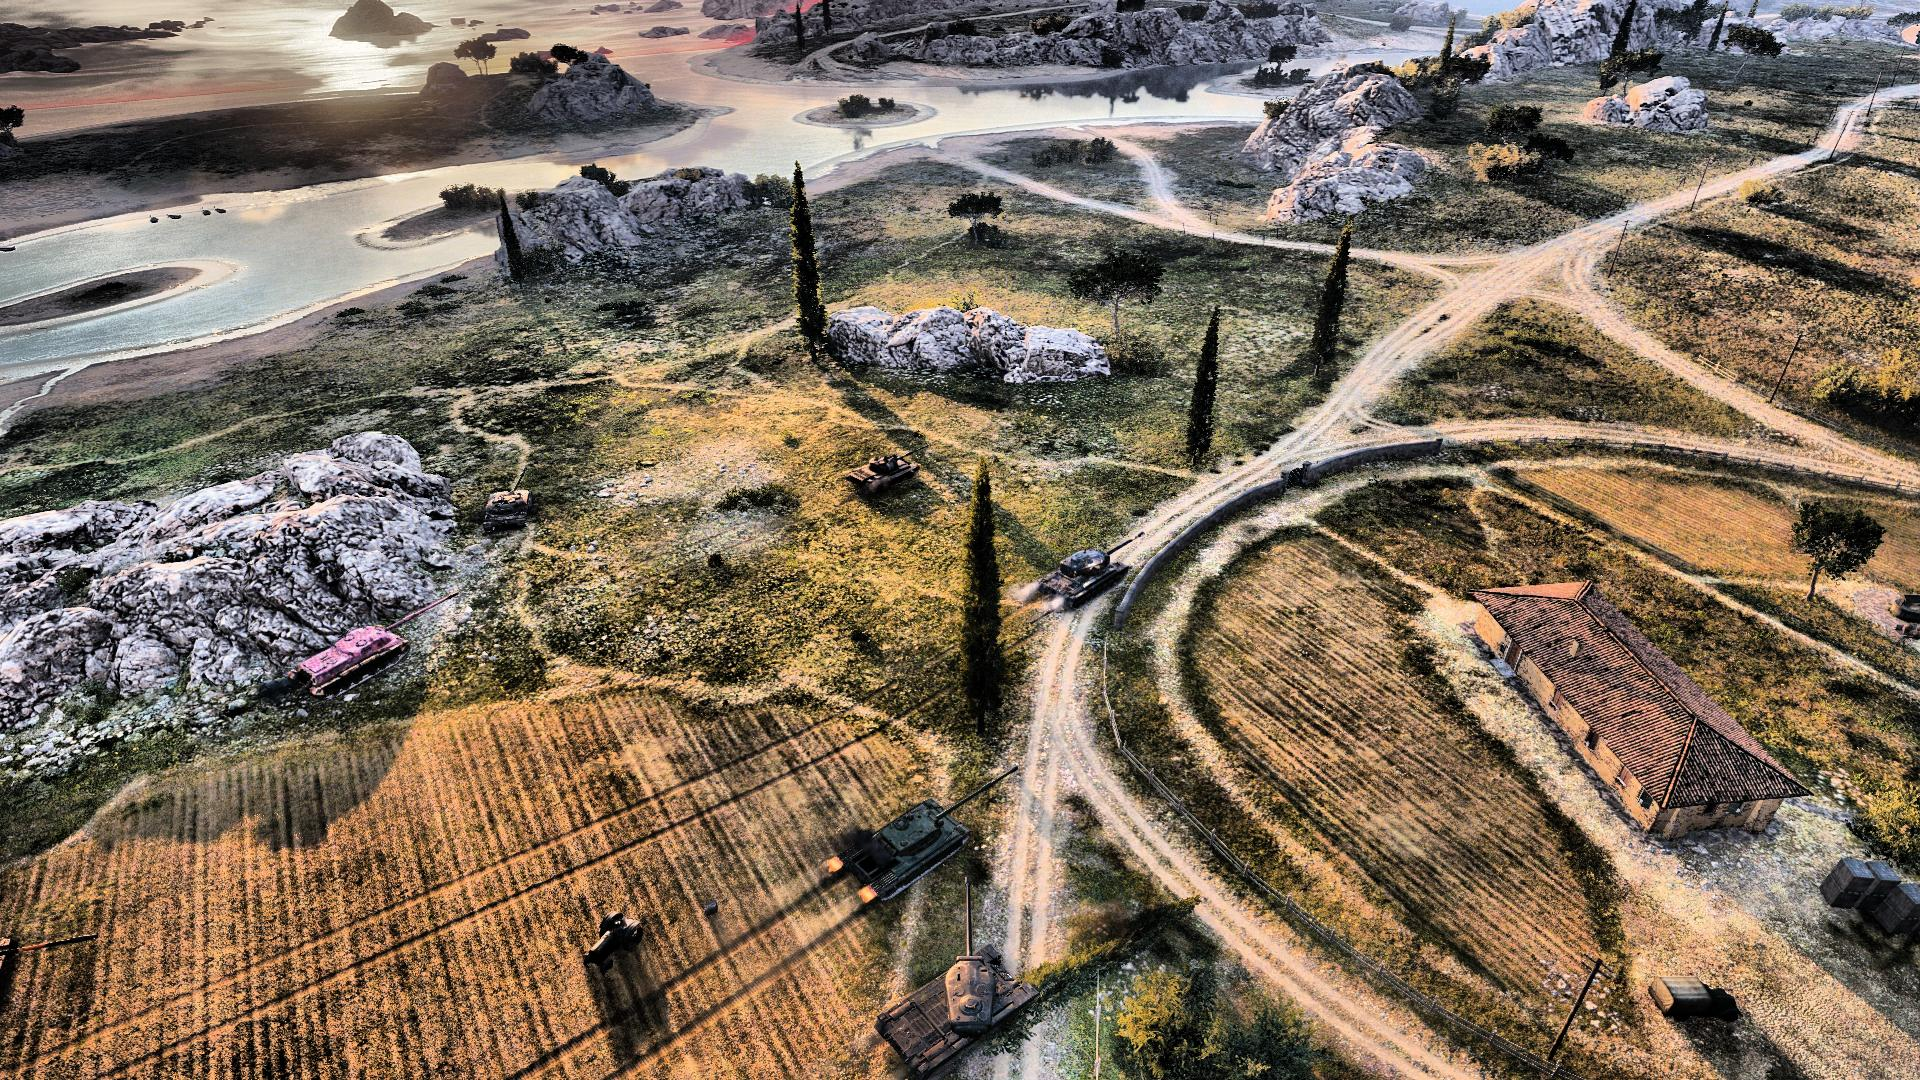military-vehicle: (876, 876, 1042, 1075), (839, 766, 1015, 899), (1038, 529, 1149, 608), (839, 448, 928, 493)
